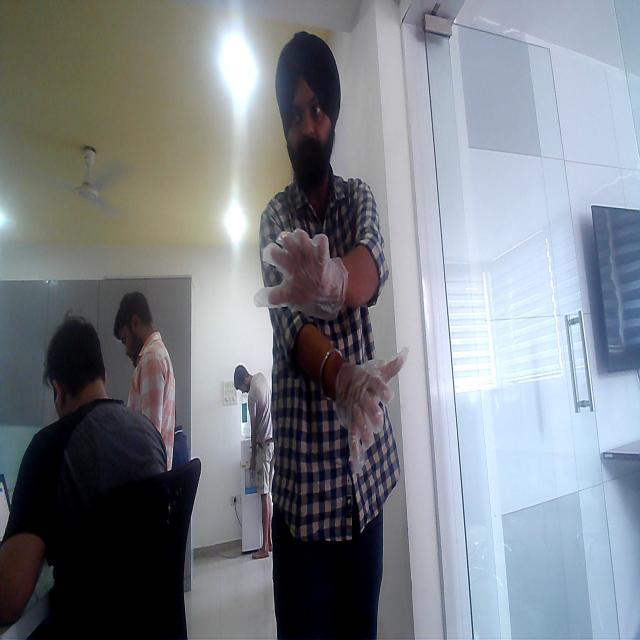with_gloves: (254, 226, 348, 323), (336, 328, 400, 450)
